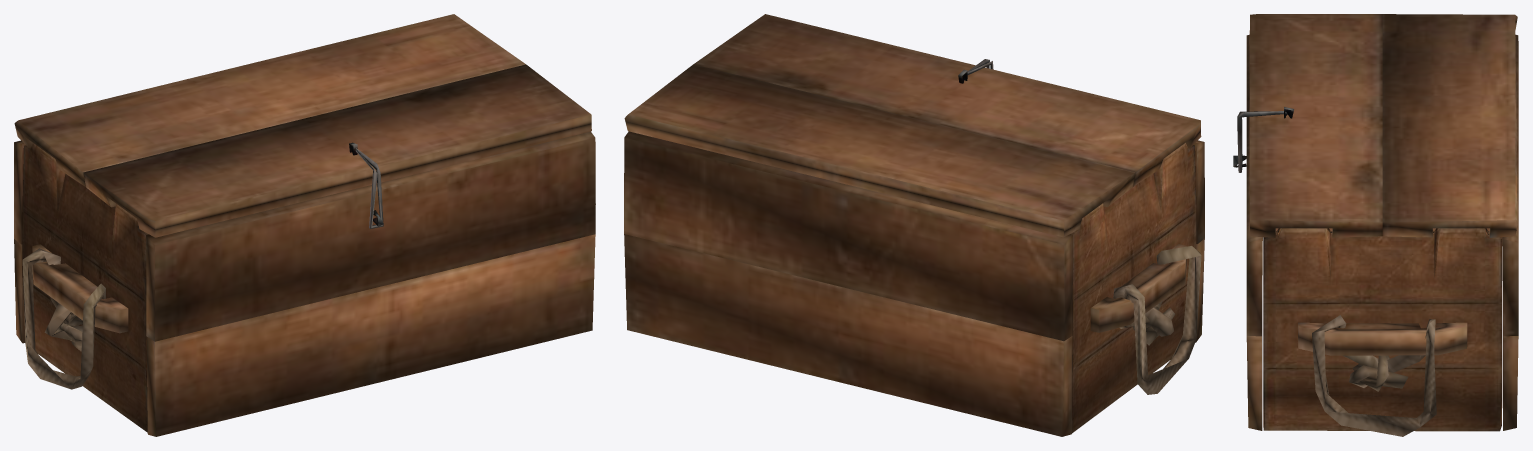
Rendered from wooden_crate_01.glb.
3 views of the same model, side by side, from view 1: azimuth 30°, elevation 25°; view 2: azimuth 150°, elevation 25°; view 3: azimuth 270°, elevation 25° (orthographic). The views are drawn at different scales.
Parts seen in each view (by area): view 1: wooden_crate_01; view 2: wooden_crate_01; view 3: wooden_crate_01.
Part boxes in pixels (x1,y1,x2,y2): wooden_crate_01: (14, 14, 595, 436); wooden_crate_01: (624, 14, 1204, 436); wooden_crate_01: (1233, 14, 1518, 436).
Bounding box in the file's own units: 0.8207 × 0.3469 × 0.4043.
1 material, 1 textured.
